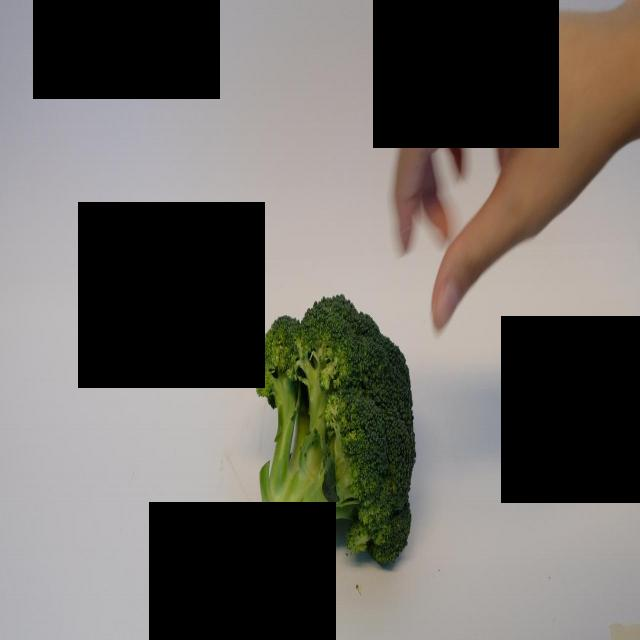broccoli: (246, 291, 418, 586)
